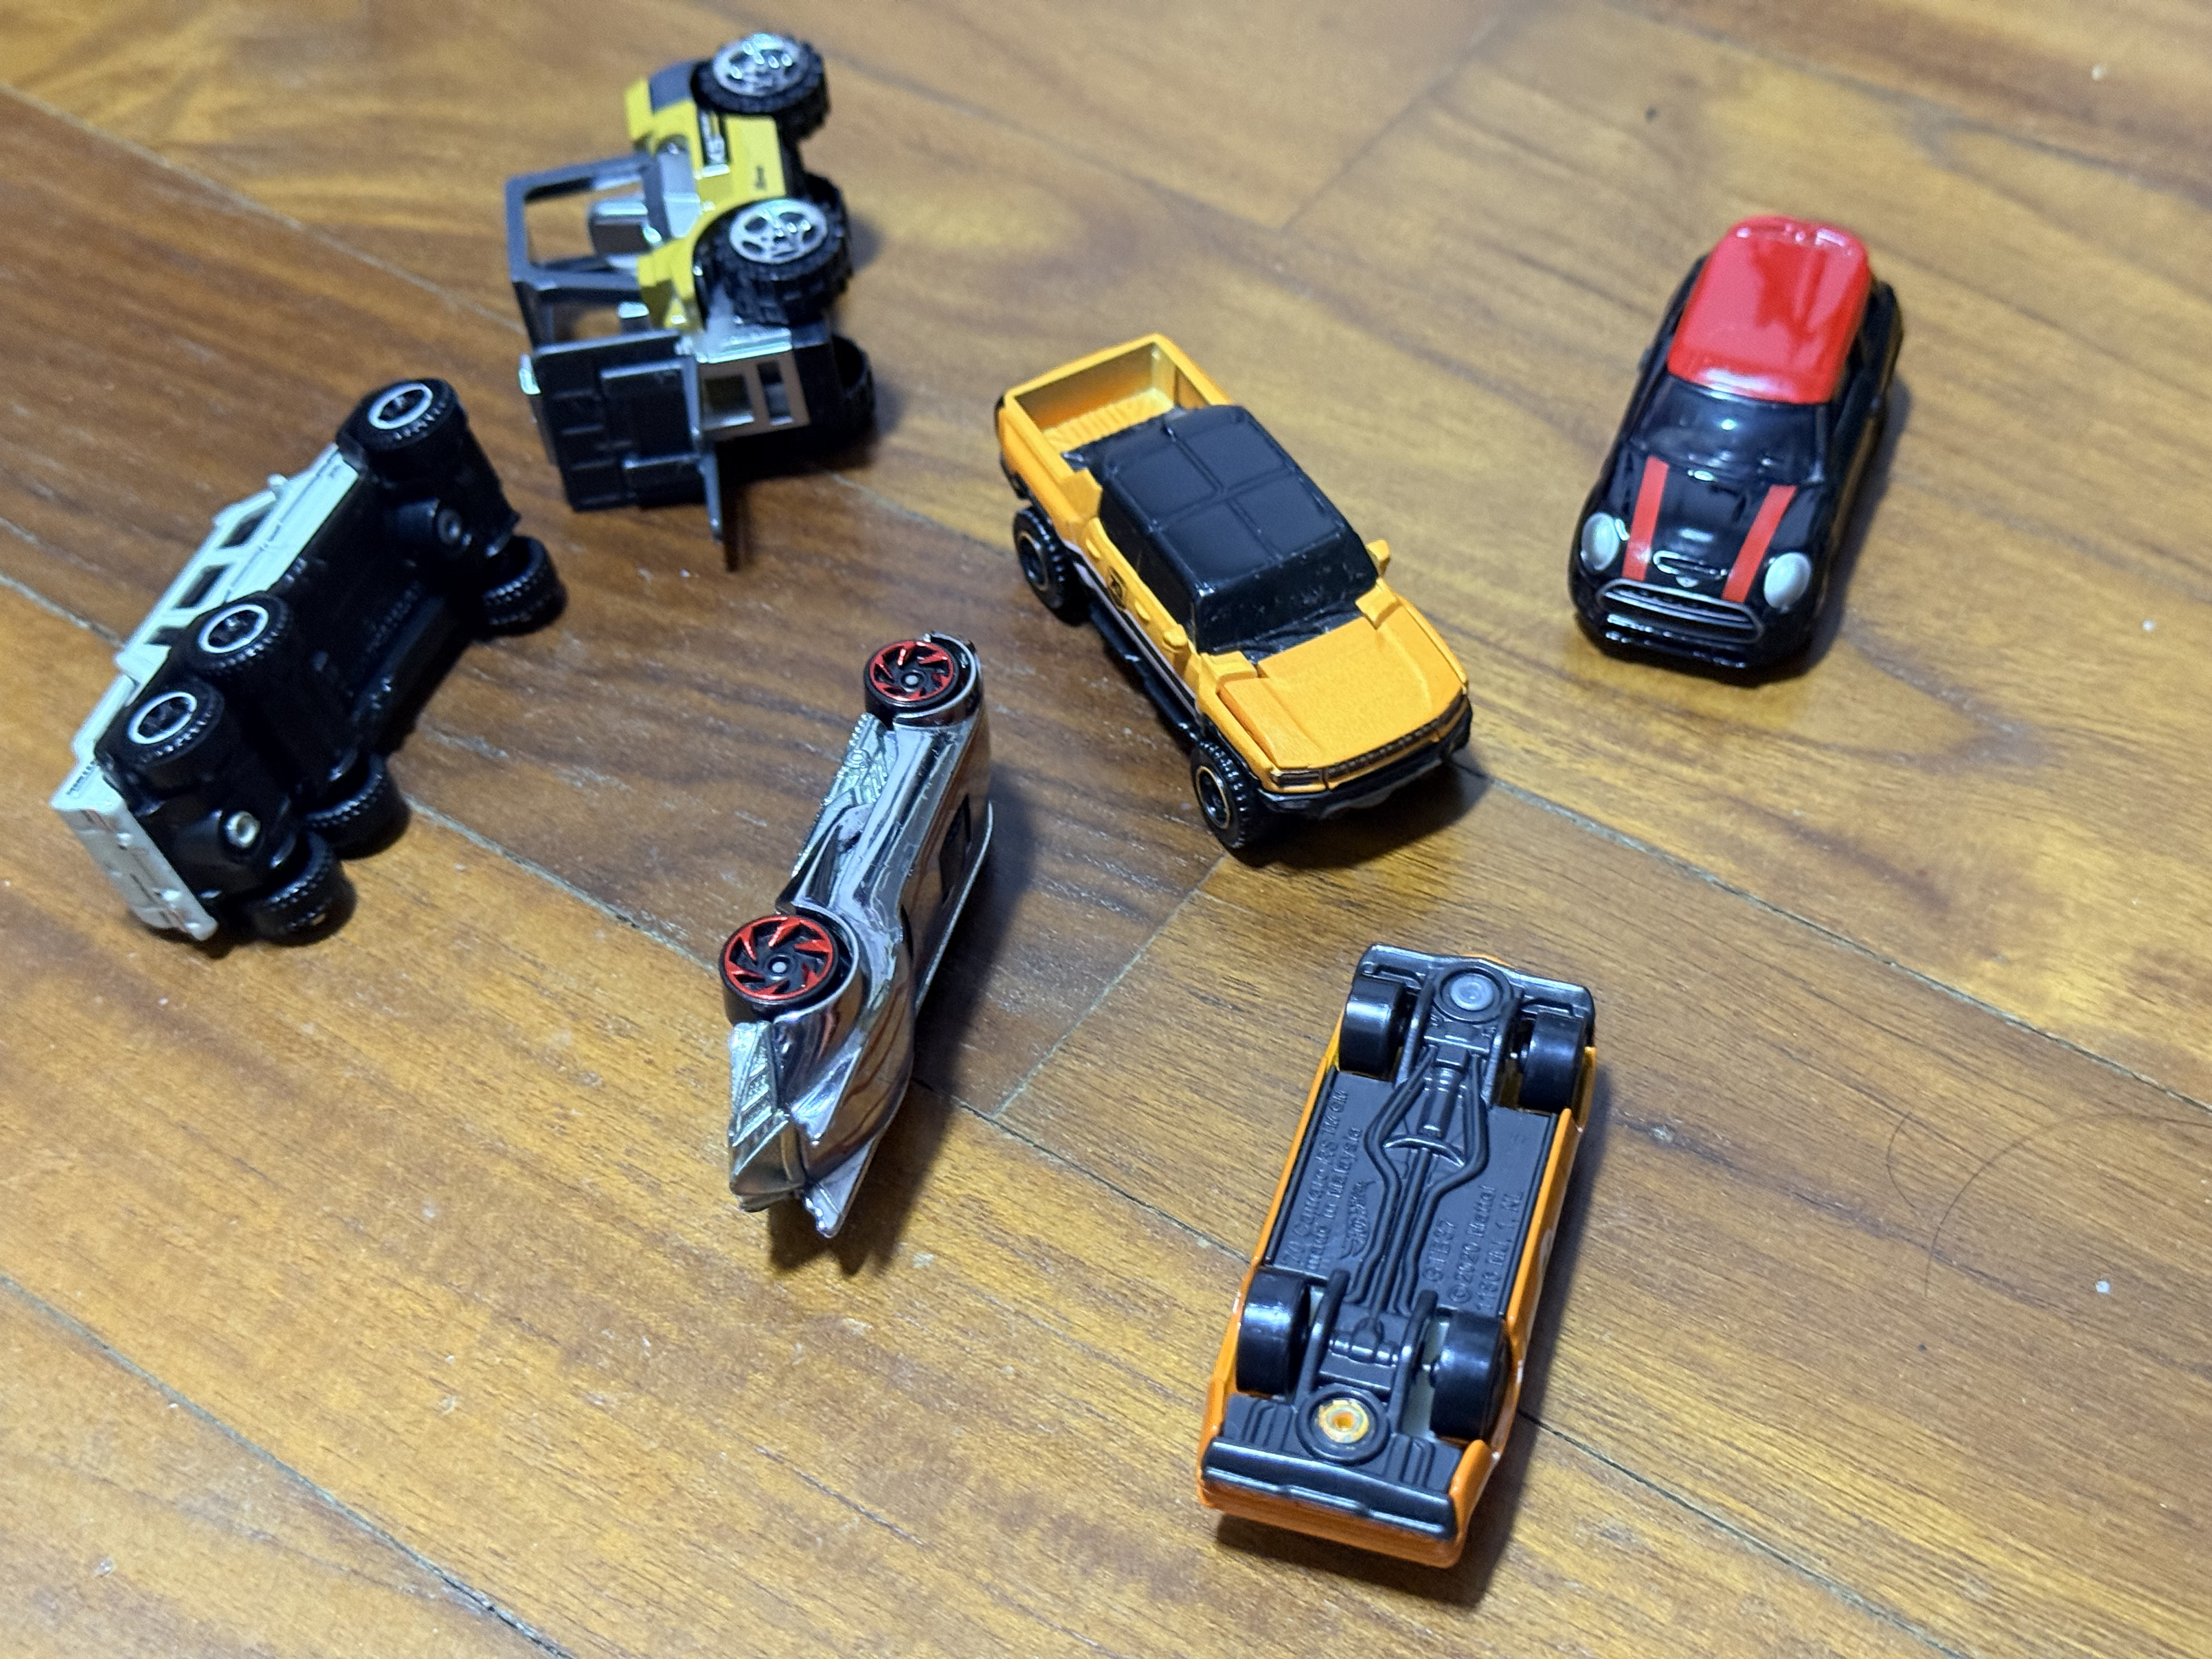camaro_rs: (1193, 941, 1601, 1577)
dc_comics: (716, 622, 995, 1243)
forklift: (498, 23, 880, 544)
gmc_hummer: (993, 324, 1477, 856)
mercedes_benz: (47, 371, 568, 953)
mini_cooper: (1568, 211, 1905, 687)
